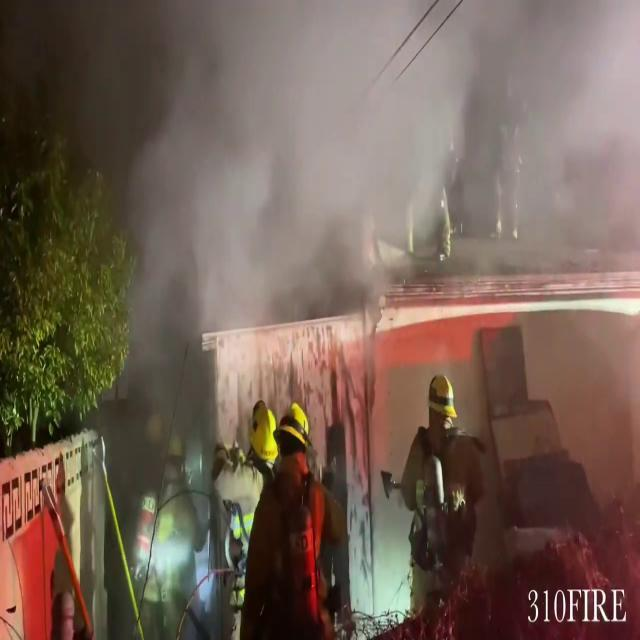Smoke: (33, 0, 520, 386)
